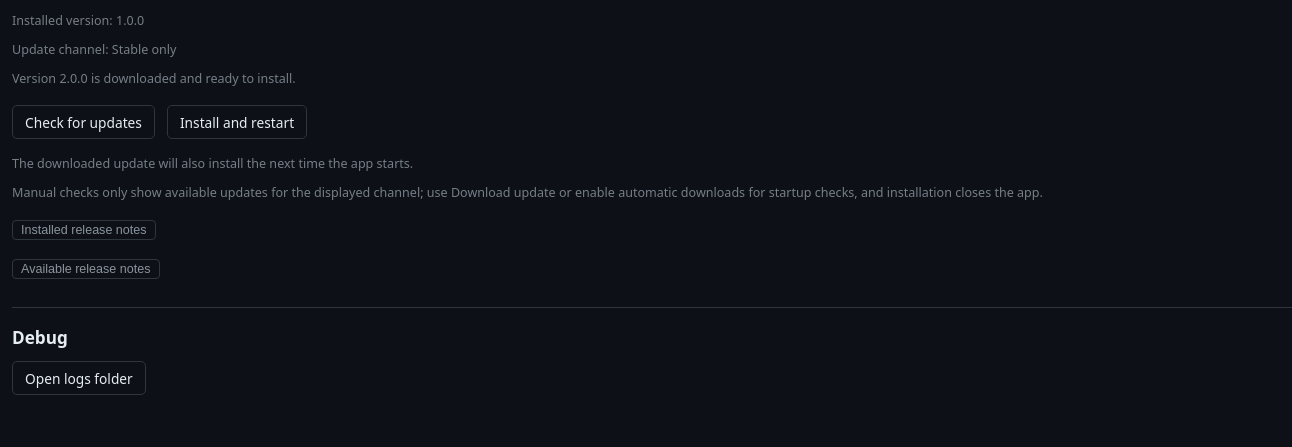
Updates settings › hides the logs action and its error when settings search filters it out
Click the button "Open logs folder": x=79, y=378 x1=12 y1=361 x2=146 y2=395
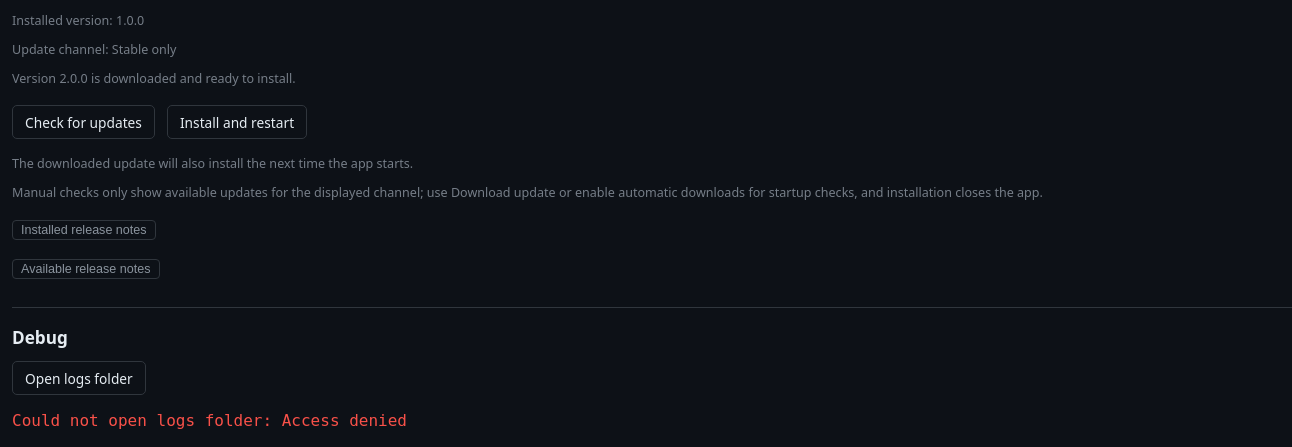
Check: the message "Could not open logs folder: Access denied" is shown, box x1=12 y1=411 x2=407 y2=430
